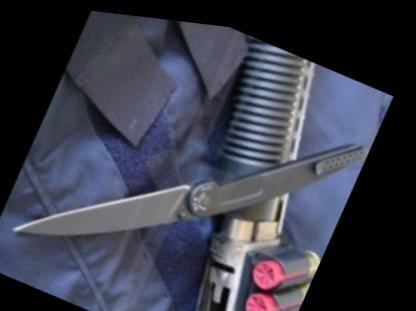knife: (8, 106, 242, 297)
